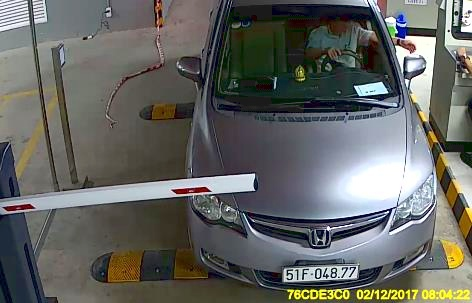plate: (278, 258, 364, 285)
